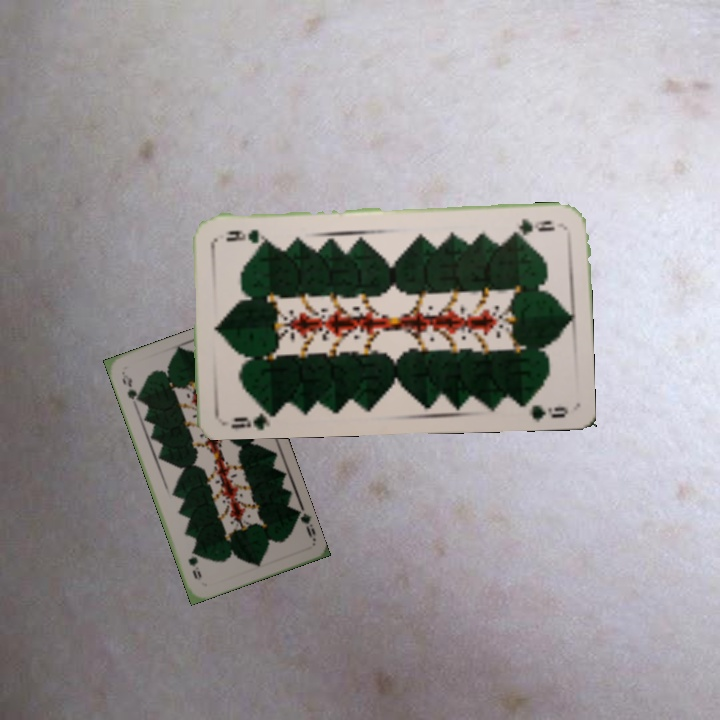G9: (227, 403, 279, 431), (505, 215, 558, 237), (292, 506, 318, 544), (118, 369, 142, 406)
